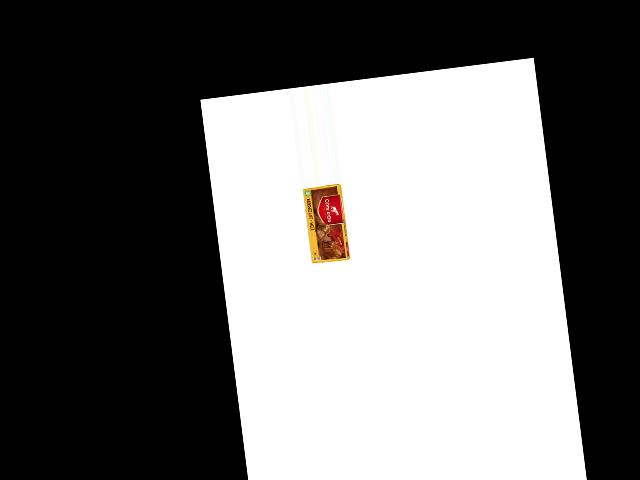chocolate: (296, 183, 352, 266)
